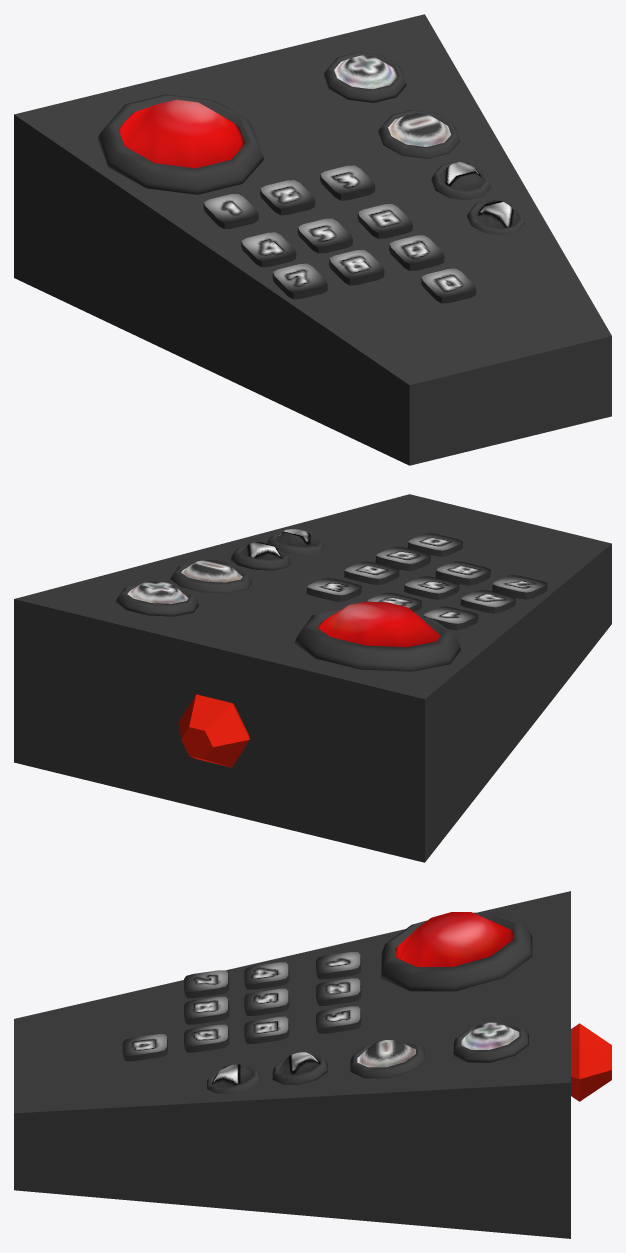
The model's file is TV_Remote.FBX.
3 renders of one model, top to bottom at view 1: azimuth 30°, elevation 25°; view 2: azimuth 150°, elevation 25°; view 3: azimuth 270°, elevation 25°, orthographic. The views are drawn at different scales.
Visible parts, largest first — view 1: Remote; view 2: Remote; view 3: Remote.
Boxes of the visible parts, x1=… form: Remote: x1=14, y1=14, x2=611, y2=465; Remote: x1=14, y1=494, x2=611, y2=862; Remote: x1=14, y1=891, x2=611, y2=1238.
Size of the model in its own units: 35.25 by 15.03 by 46.48.
